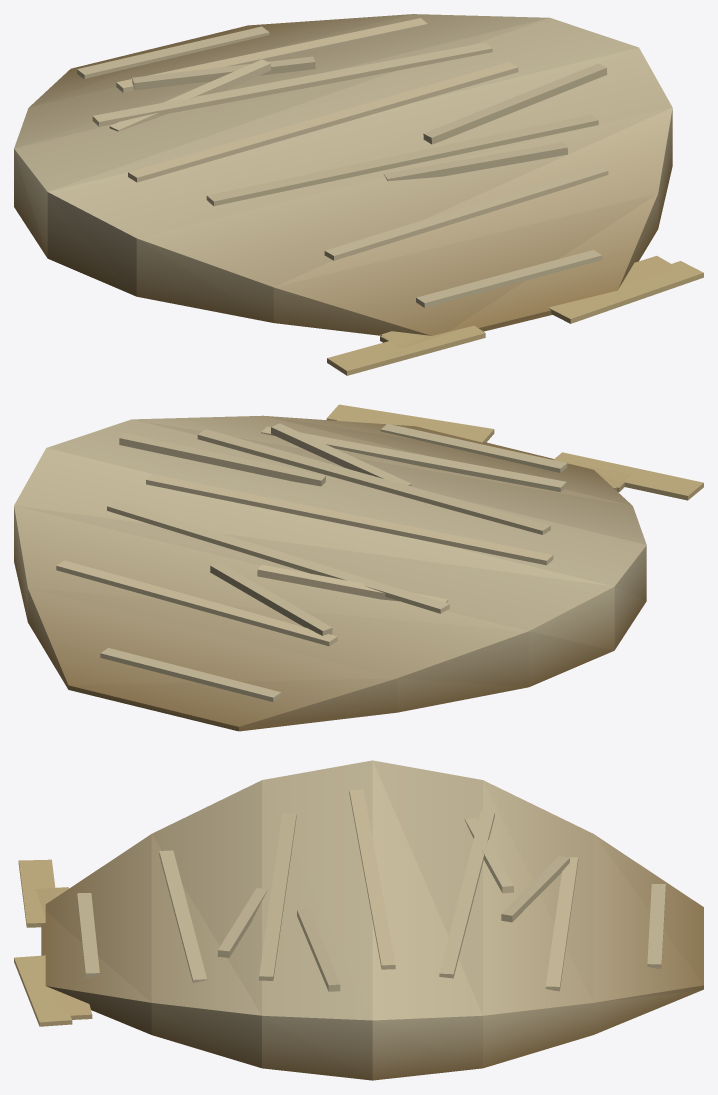
File: sand_drift.glb
The picture shows the model from 3 angles, top to bottom: view 1: azimuth 30°, elevation 25°; view 2: azimuth 150°, elevation 25°; view 3: azimuth 270°, elevation 25°; orthographic projection. The views are drawn at different scales.
Parts seen in each view (by area): view 1: sand_drift; view 2: sand_drift; view 3: sand_drift.
Boxes of the visible parts, x1,y1,x2,y2 form: sand_drift: (14, 14, 703, 375); sand_drift: (14, 404, 703, 731); sand_drift: (14, 760, 703, 1080).
Bounding box in the file's own units: 2.6 × 0.3281 × 2.91.
